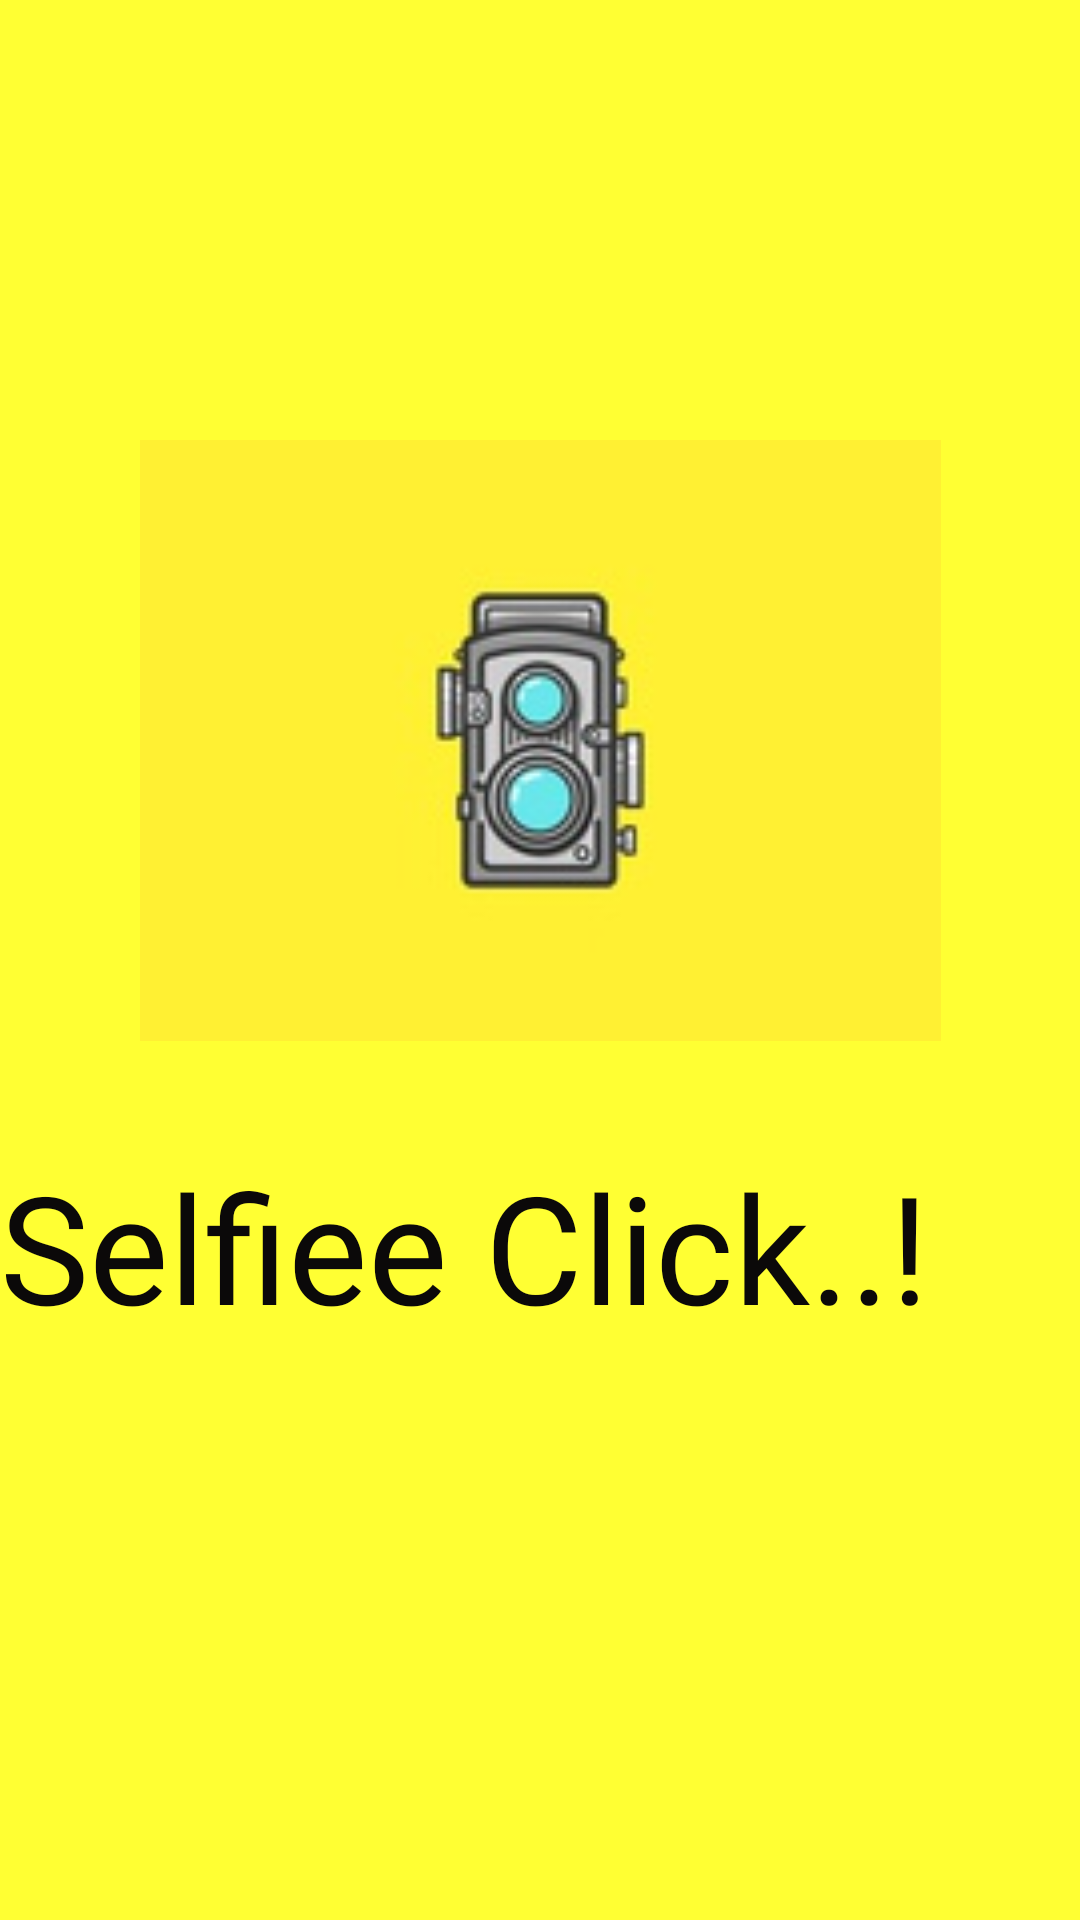

Screen size 1080px x 1920px. Icon name, then its box in pixels as bbox=[x1, y1, x2, y2]:
campic: bbox=[433, 589, 649, 892]
